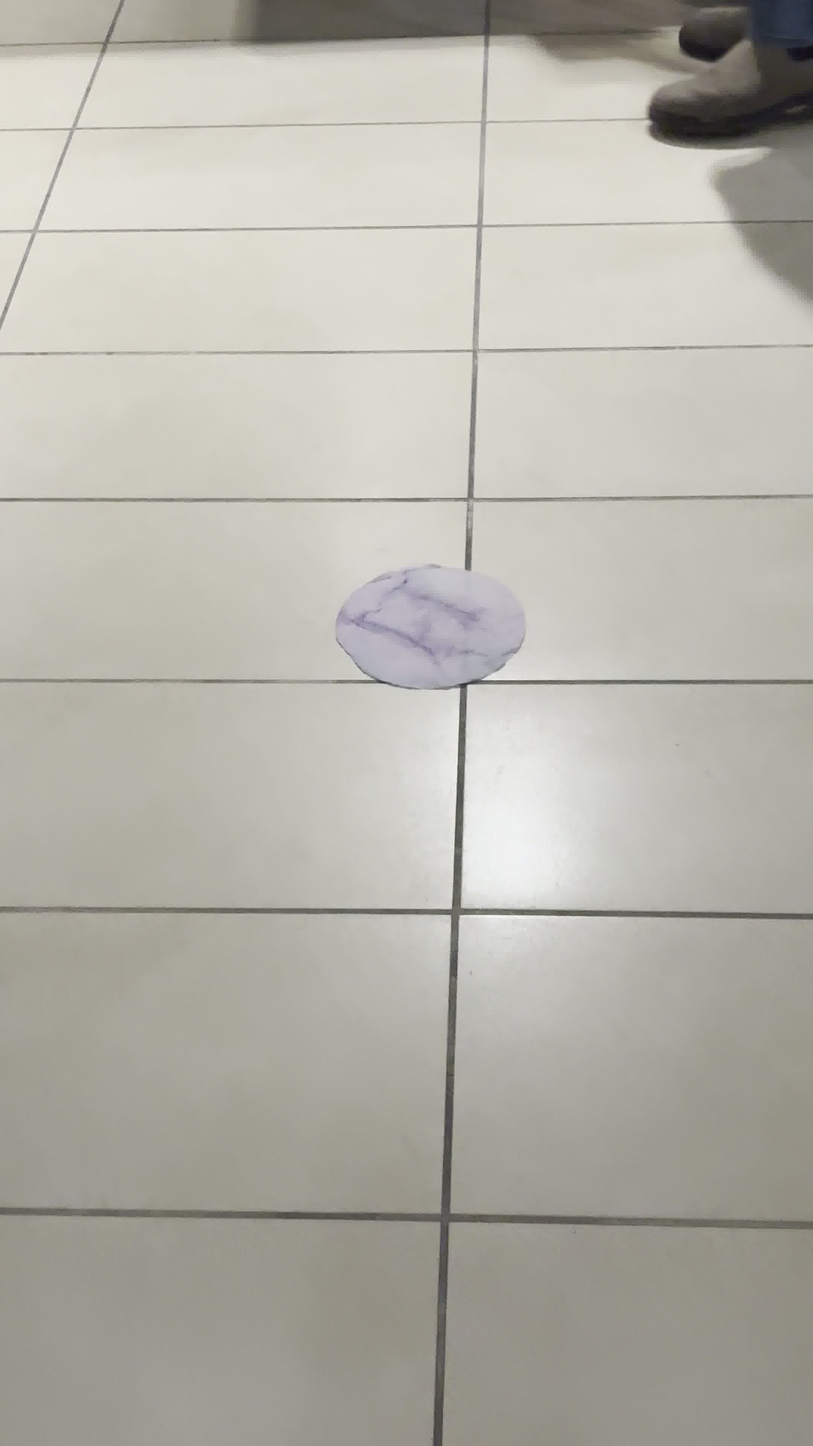Target: (330, 564, 524, 691)
